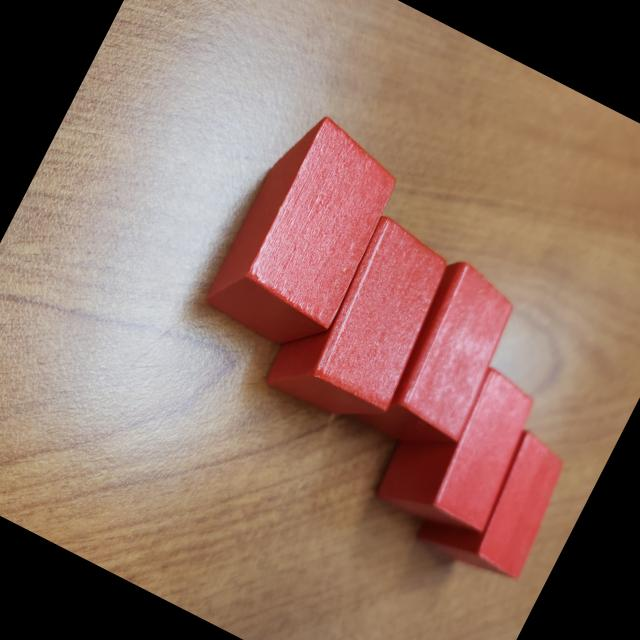red: (200, 104, 414, 364), (260, 200, 466, 440), (342, 243, 534, 468), (371, 343, 554, 550), (412, 404, 582, 592)
